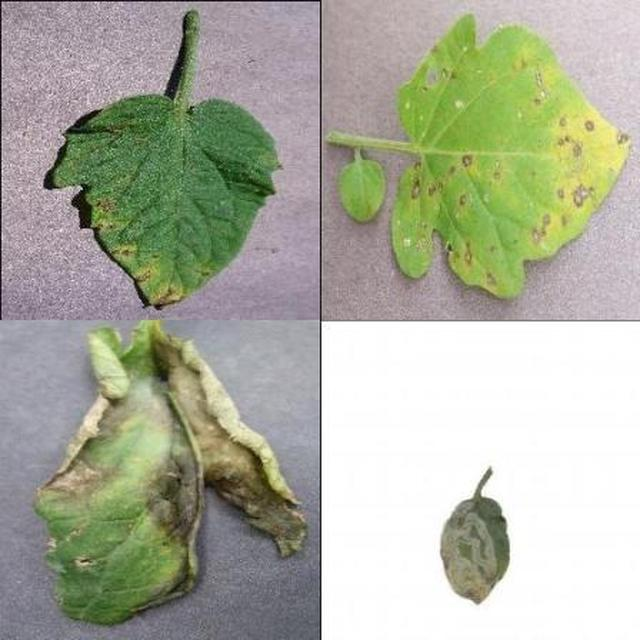Septoria Leaf: (102, 157, 640, 640)
